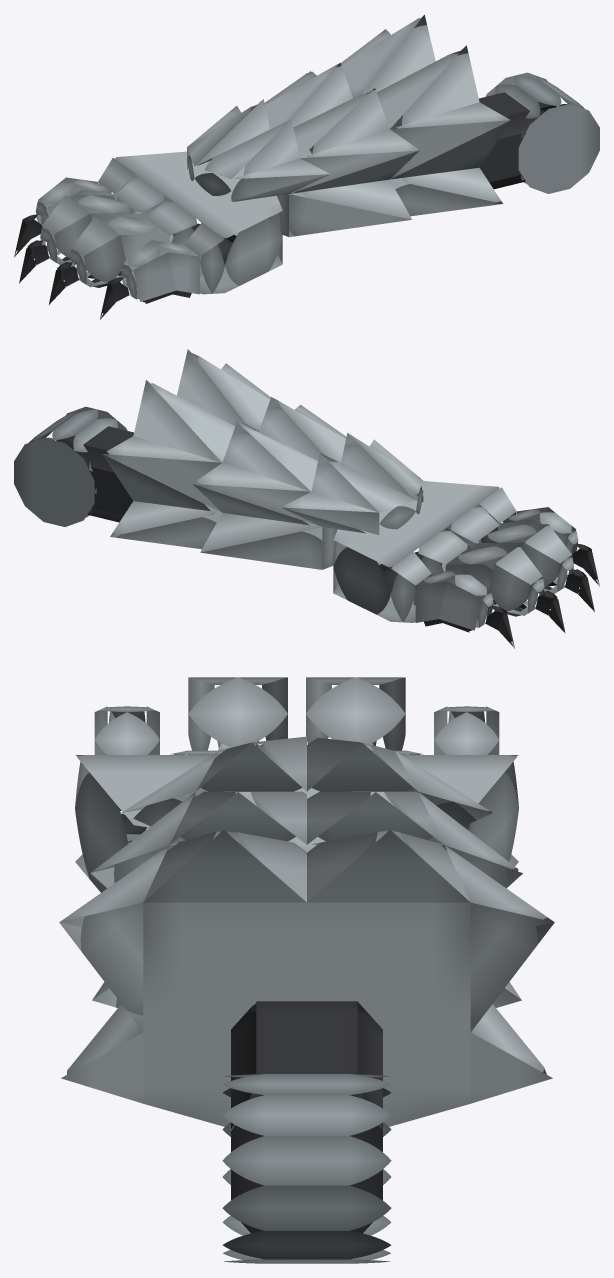
The model's file is HoundArmL.obj.
3 renders of one model, top to bottom at view 1: azimuth 30°, elevation 25°; view 2: azimuth 150°, elevation 25°; view 3: azimuth 270°, elevation 25°, orthographic. The views are drawn at different scales.
Parts seen in each view (by area): view 1: Forearm, cuboid, cylinder, Arm; view 2: Forearm, cuboid, cylinder, Arm; view 3: Forearm, cuboid, cylinder, Arm.
Boxes of the visible parts, x1,y1,x2,y2 form: Forearm: (187,15,510,237); cuboid: (14,151,282,319); cylinder: (485,72,599,193); Arm: (479,92,556,189); Forearm: (102,349,423,569); cuboid: (333,481,599,648); cylinder: (14,406,127,526); Arm: (56,426,133,522); Forearm: (59,736,554,1126); cuboid: (75,677,518,892); cylinder: (222,1074,391,1263); Arm: (231,1001,382,1233).
Size of the model in its own units: 0.9261 by 0.2776 by 0.3663.
Materials: 1 (1 with a texture image).
